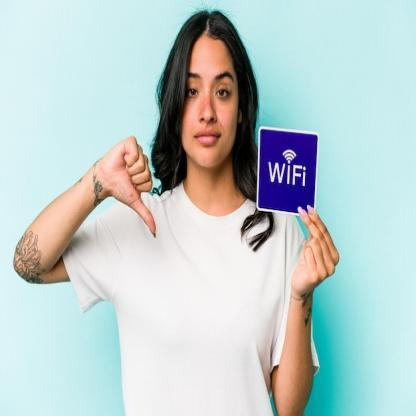thumb_down: (100, 129, 160, 244)
